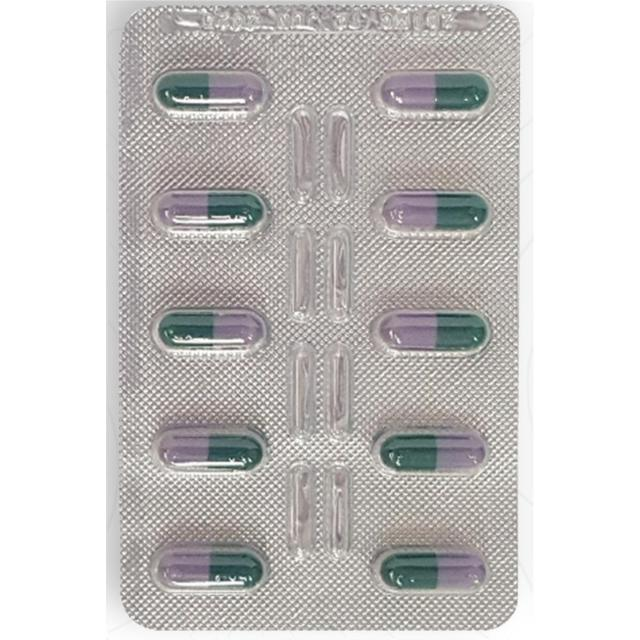blister: (116, 1, 518, 634)
